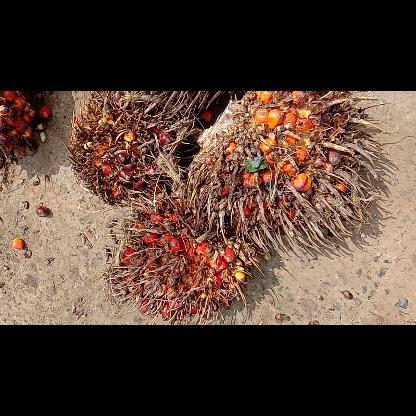Terlalu masak: (184, 91, 395, 259), (103, 190, 267, 324), (61, 90, 216, 208)
